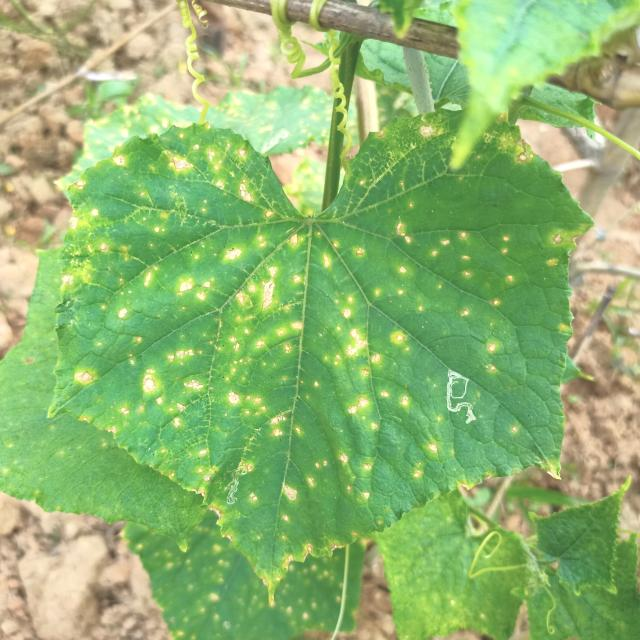disease_cucumber: (69, 135, 562, 547)
